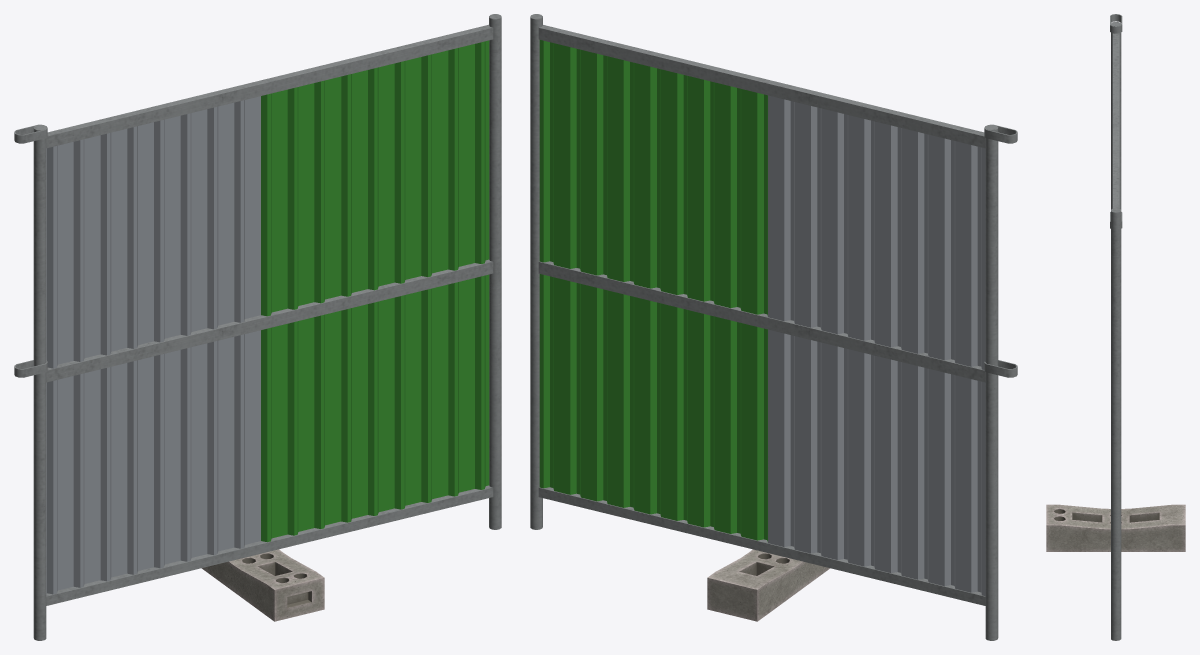
The model's file is SM_Construction_Fences.FBX.
3 renders of one model, left to right at view 1: azimuth 30°, elevation 25°; view 2: azimuth 150°, elevation 25°; view 3: azimuth 270°, elevation 25°, orthographic. The views are drawn at different scales.
Visible parts, largest first — view 1: SM_Construction_Fence_LOD0, SM_Construction_Fence_Small_LOD0, SM_Concrete_Block_Fence_LOD0; view 2: SM_Construction_Fence_LOD0, SM_Construction_Fence_Small_LOD0, SM_Concrete_Block_Fence_LOD0; view 3: SM_Construction_Fence_LOD0, SM_Concrete_Block_Fence_LOD0, SM_Construction_Fence_Small_LOD0.
Boxes of the visible parts, <box> form: SM_Construction_Fence_LOD0: <box>14,14,501,640</box>; SM_Construction_Fence_Small_LOD0: <box>14,252,501,640</box>; SM_Concrete_Block_Fence_LOD0: <box>202,549,324,621</box>; SM_Construction_Fence_LOD0: <box>530,14,1017,640</box>; SM_Construction_Fence_Small_LOD0: <box>530,251,1017,640</box>; SM_Concrete_Block_Fence_LOD0: <box>707,549,829,621</box>; SM_Construction_Fence_LOD0: <box>1110,14,1122,640</box>; SM_Concrete_Block_Fence_LOD0: <box>1046,504,1185,551</box>; SM_Construction_Fence_Small_LOD0: <box>1110,212,1122,640</box>.
Size of what is drawn, in the model's own units: 2.17 by 2.18 by 0.6417.
